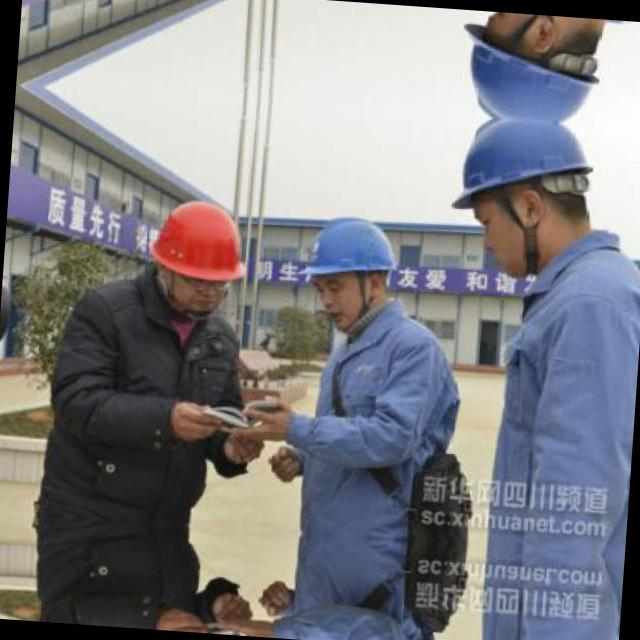helmet: (438, 114, 614, 286), (448, 9, 623, 128), (136, 184, 258, 324), (288, 202, 411, 334)
